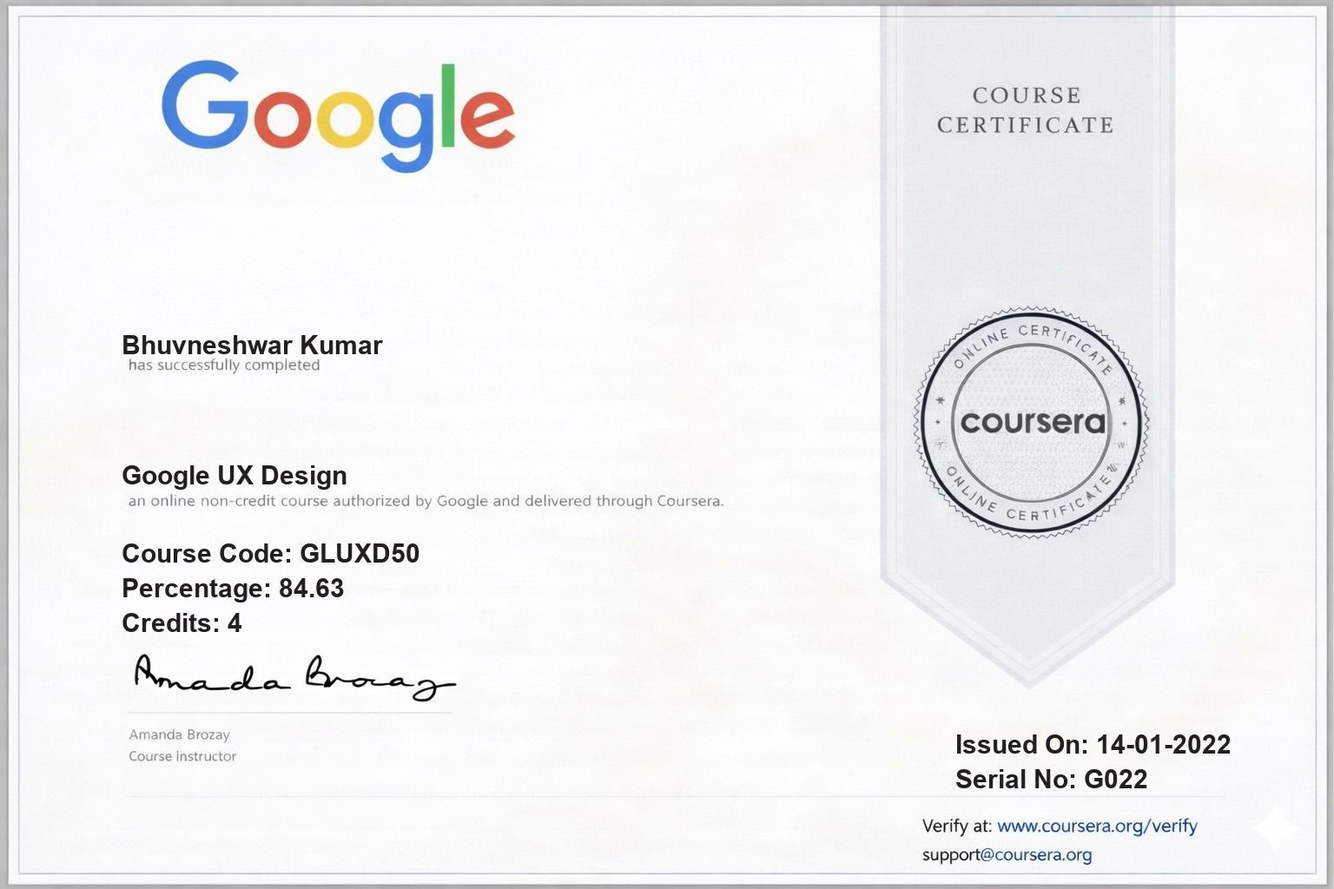Course Code: (297, 539, 427, 573)
Course Name: (116, 456, 356, 497)
Credits: (223, 608, 252, 639)
Issued On: (1094, 721, 1239, 765)
Percentage: (276, 571, 351, 608)
Serial No: (1081, 762, 1154, 805)
Student Name: (111, 329, 389, 360)
